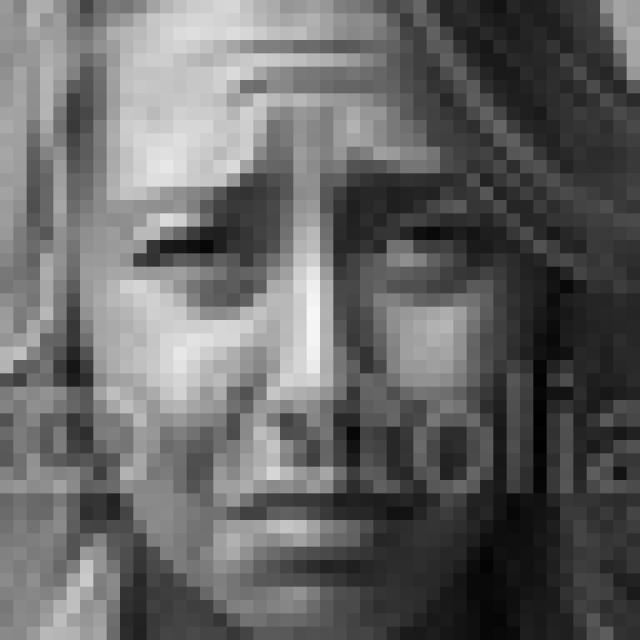sad: (101, 100, 494, 592)
